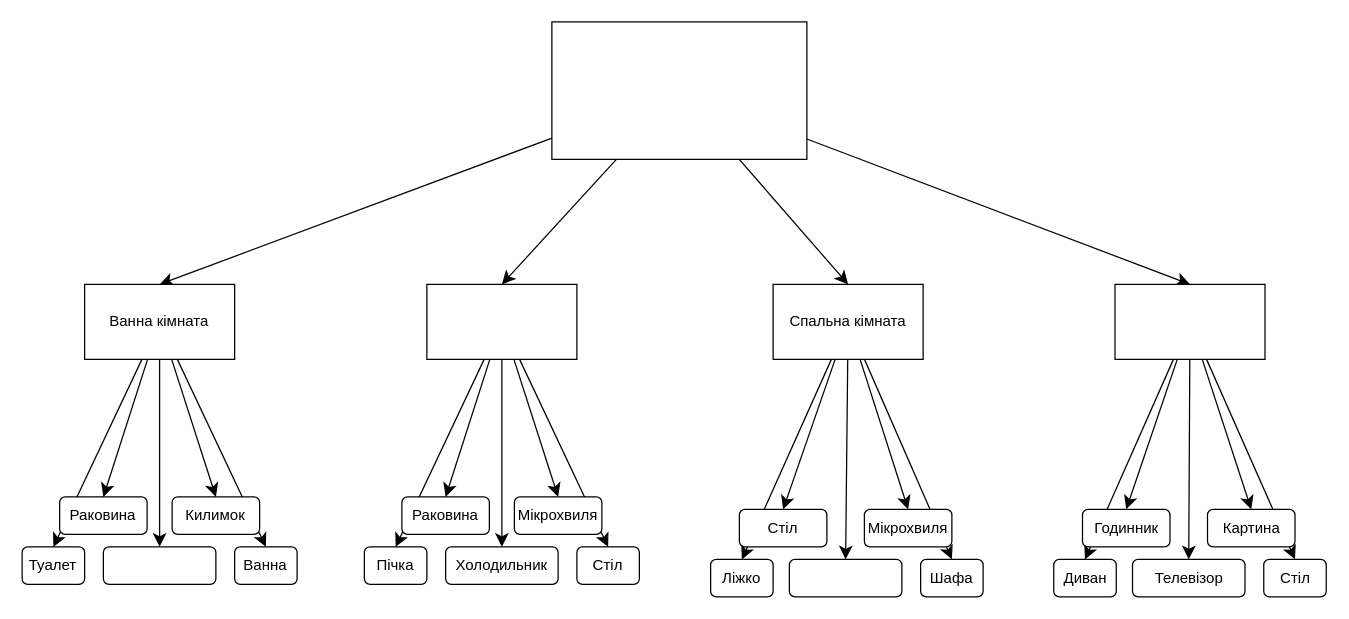
Image size: 1349x619. Some labels were removed from this diagram. Here are the shapes that lost their labels. From the top down, the centre of each, then its label:
At [679,90]: "Будівля".
At [501,321]: "Кухня".
At [1189,321]: "Зала".
At [159,565]: "Стиральна машина".
At [845,577]: "Будильник".
